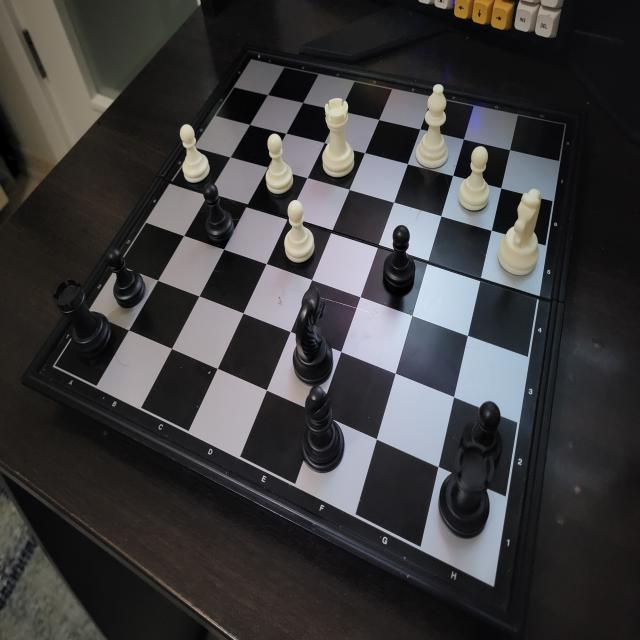black-bishop: (300, 384, 344, 475)
black-knight: (289, 282, 336, 386)
black-pawn: (457, 399, 506, 457), (105, 244, 146, 311), (381, 222, 416, 296), (202, 183, 236, 247)
black-rook: (438, 440, 496, 541), (54, 276, 112, 363)
chess-board: (47, 49, 576, 614)
white-bishop: (414, 82, 451, 174)
white-knight: (496, 186, 542, 281)
white-pawn: (459, 144, 490, 213), (284, 199, 315, 265), (179, 122, 211, 184), (264, 132, 294, 197)
white-rook: (320, 95, 356, 187)
